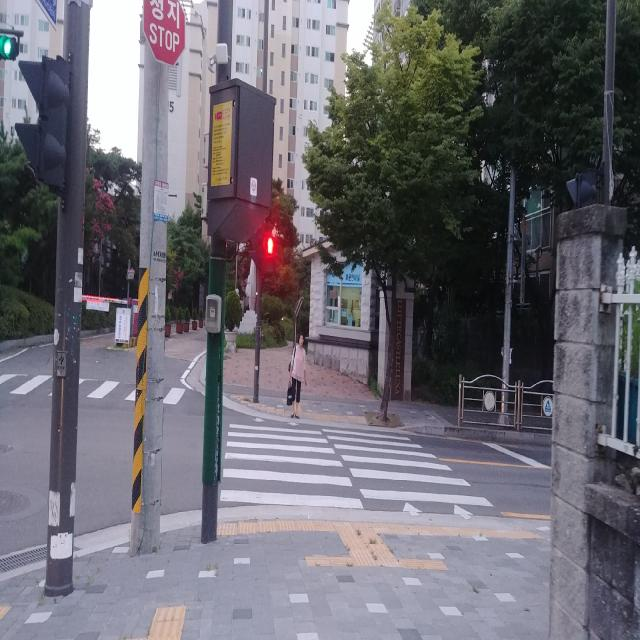빨간불: (264, 237, 275, 273)
횡단보도: (219, 415, 495, 522), (0, 367, 197, 403)
